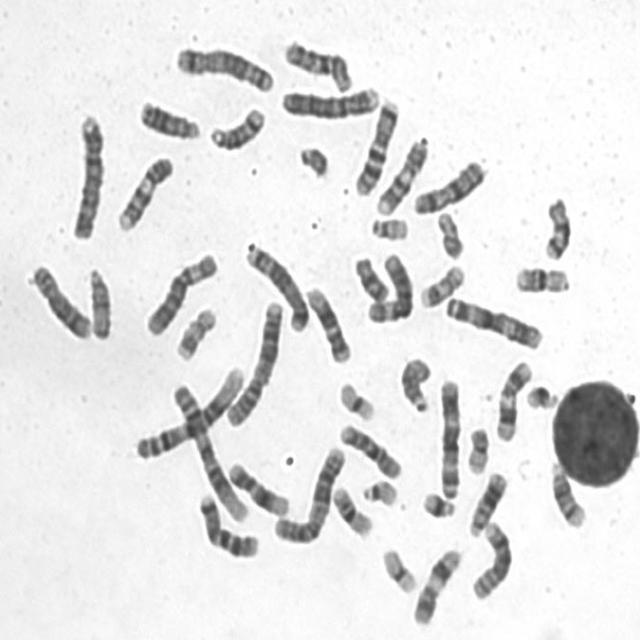A1: (167, 376, 251, 524), (131, 360, 246, 462)
A2: (220, 296, 284, 430), (269, 441, 347, 545)
A3: (440, 289, 544, 352), (434, 374, 463, 500)
B4: (66, 108, 106, 242), (276, 80, 381, 121)
B5: (240, 237, 310, 334), (171, 40, 276, 95)
C10: (278, 34, 354, 94), (335, 419, 403, 481)
C11: (408, 543, 462, 627), (491, 356, 534, 443)
C12: (223, 456, 291, 518), (302, 282, 352, 365)
C6: (140, 246, 220, 338), (362, 249, 415, 325)
C7: (350, 94, 401, 197), (192, 488, 262, 561)
C8: (26, 259, 93, 341), (466, 516, 514, 602)
C9: (112, 150, 174, 234), (372, 132, 431, 218)
D13: (134, 94, 202, 142), (464, 467, 509, 539)
D14: (545, 457, 588, 530), (205, 102, 266, 153)
D15: (82, 262, 113, 342), (394, 352, 432, 416)
E16: (328, 481, 375, 539), (511, 261, 572, 295)
E17: (171, 302, 218, 363), (415, 260, 466, 310)
E18: (538, 191, 572, 262), (349, 251, 390, 303)
F19: (377, 543, 418, 595), (334, 377, 376, 422)
F20: (432, 206, 466, 261), (462, 422, 490, 477)
G21: (417, 487, 457, 521), (520, 379, 560, 412)
G22: (358, 474, 399, 508), (366, 212, 410, 243)
X: (409, 154, 487, 217)
Y: (294, 140, 330, 180)
